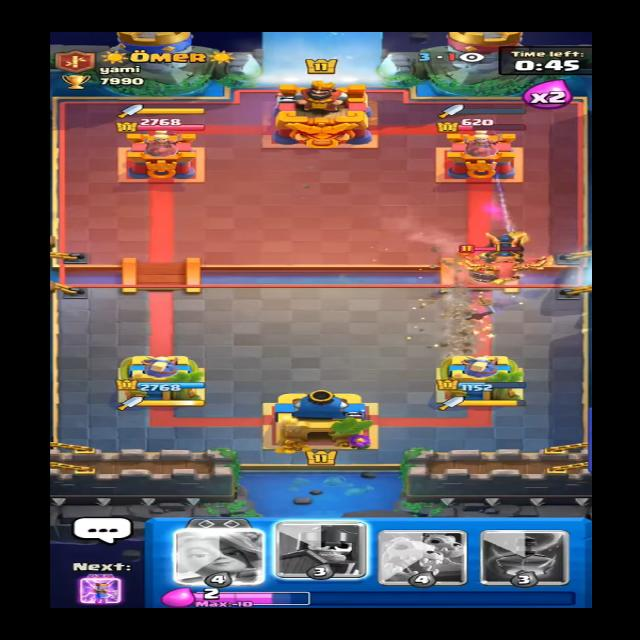goblin-demolisher: (454, 242, 534, 284)
trail: (432, 284, 486, 354)
